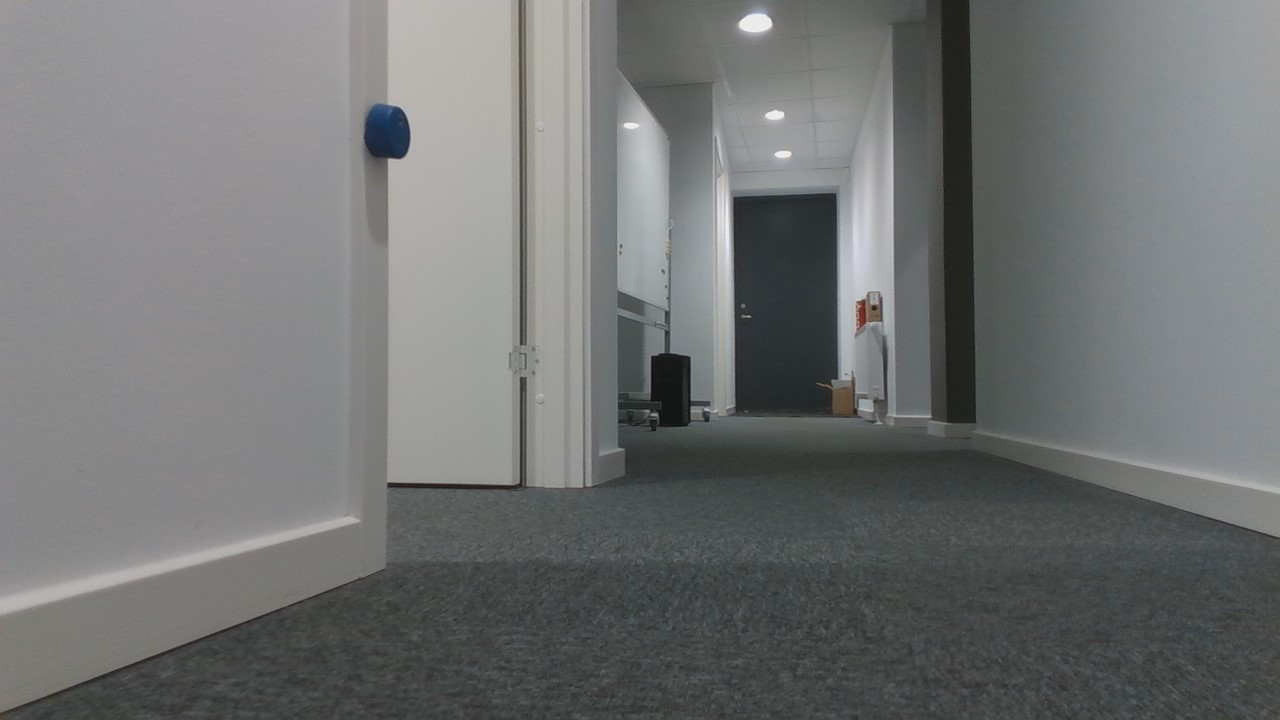alfa: (362, 104, 412, 159)
